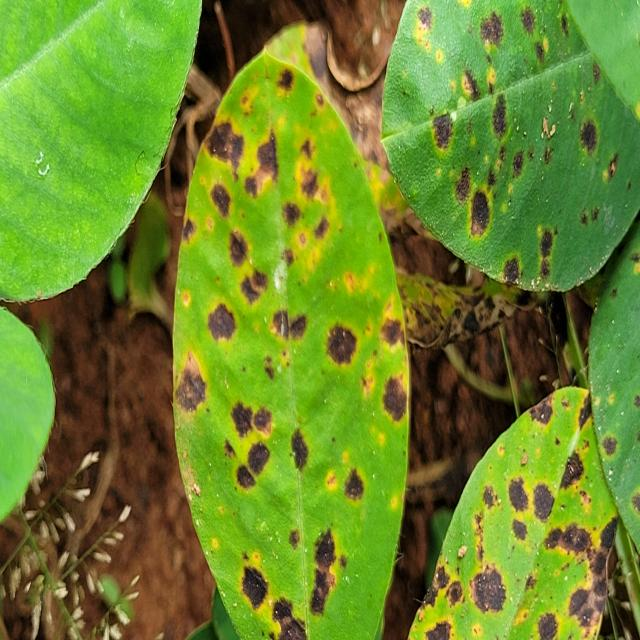Ground nut_tikka leaf spot: (171, 49, 407, 640), (382, 0, 640, 293)
